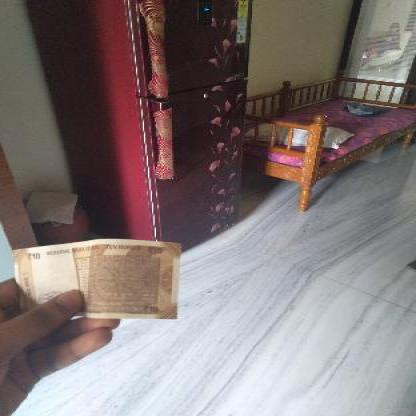New10Back: (5, 247, 179, 320)
